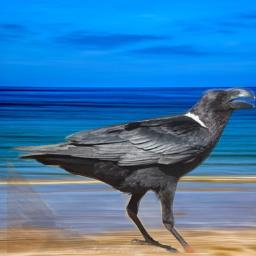Crow: (7, 84, 256, 253)
